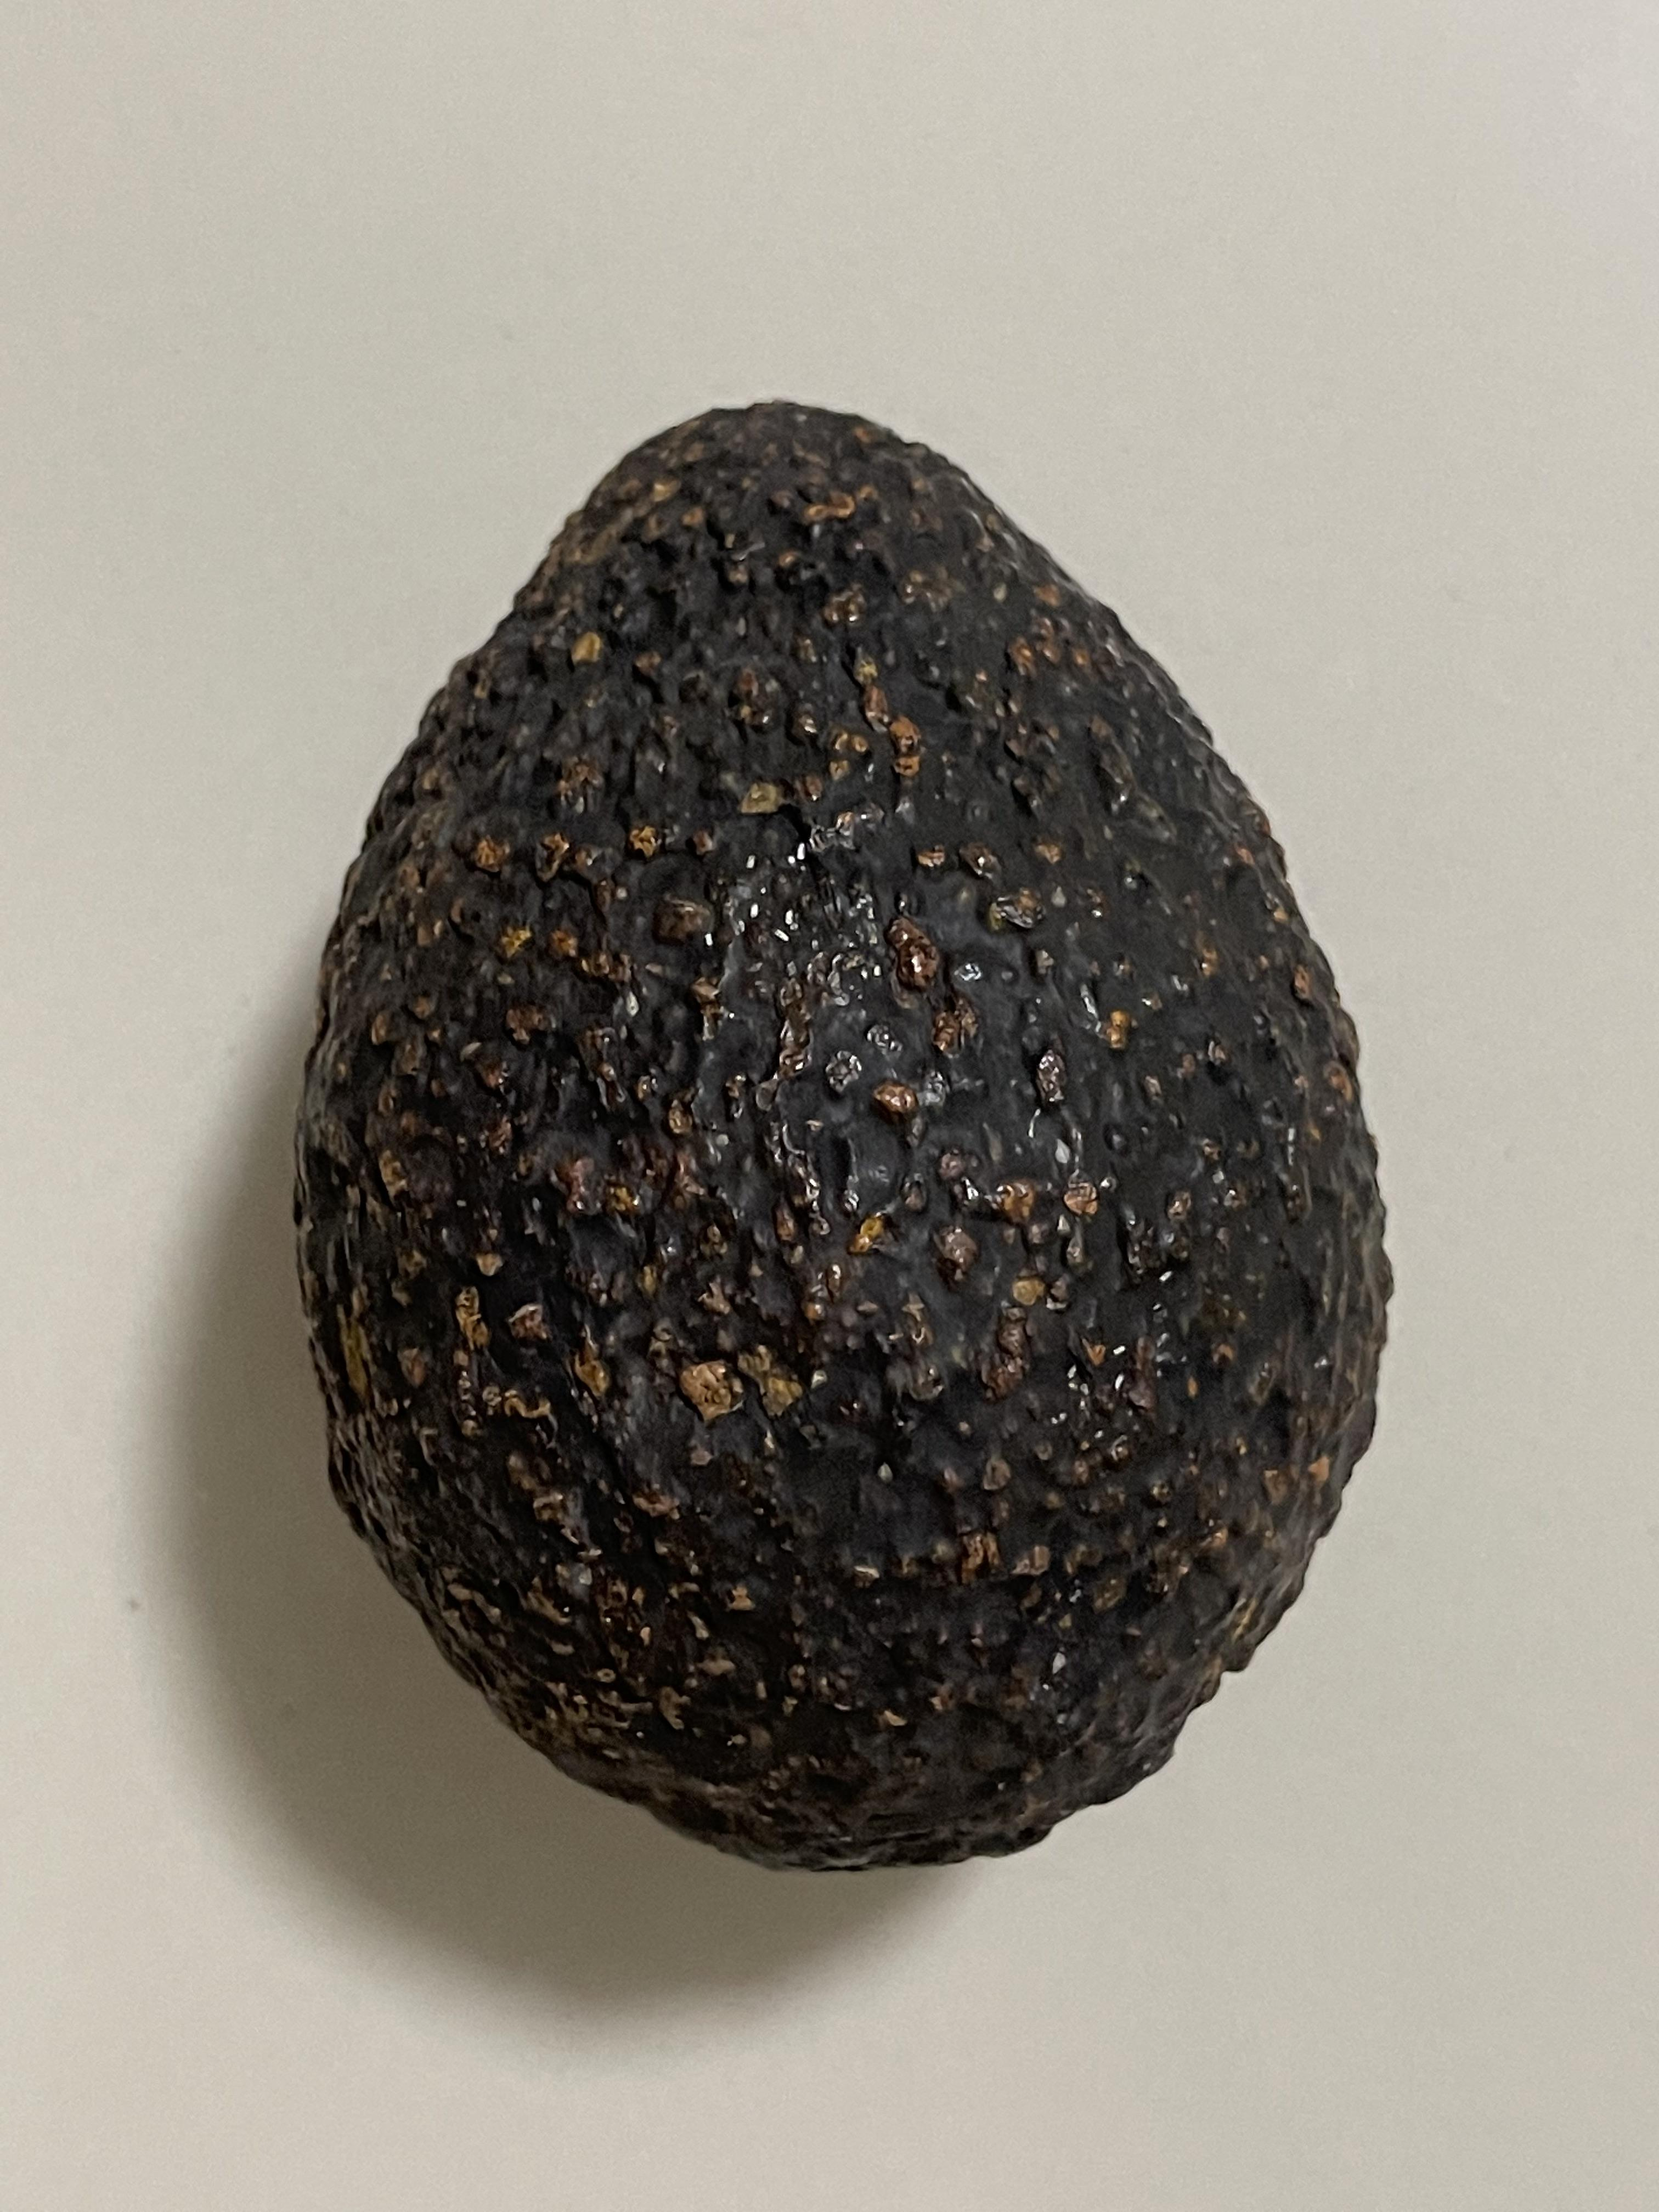Level3: (260, 376, 1419, 1911)
